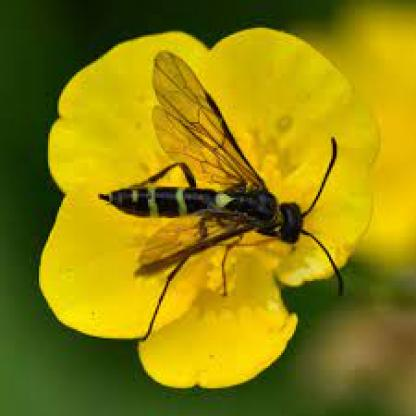sawfly: (86, 50, 360, 329)
